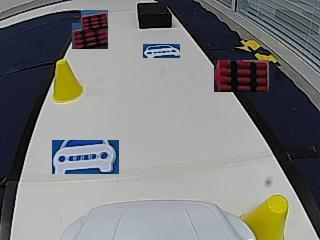block: (138, 1, 172, 29)
cone: (52, 59, 85, 106), (255, 195, 289, 239)
